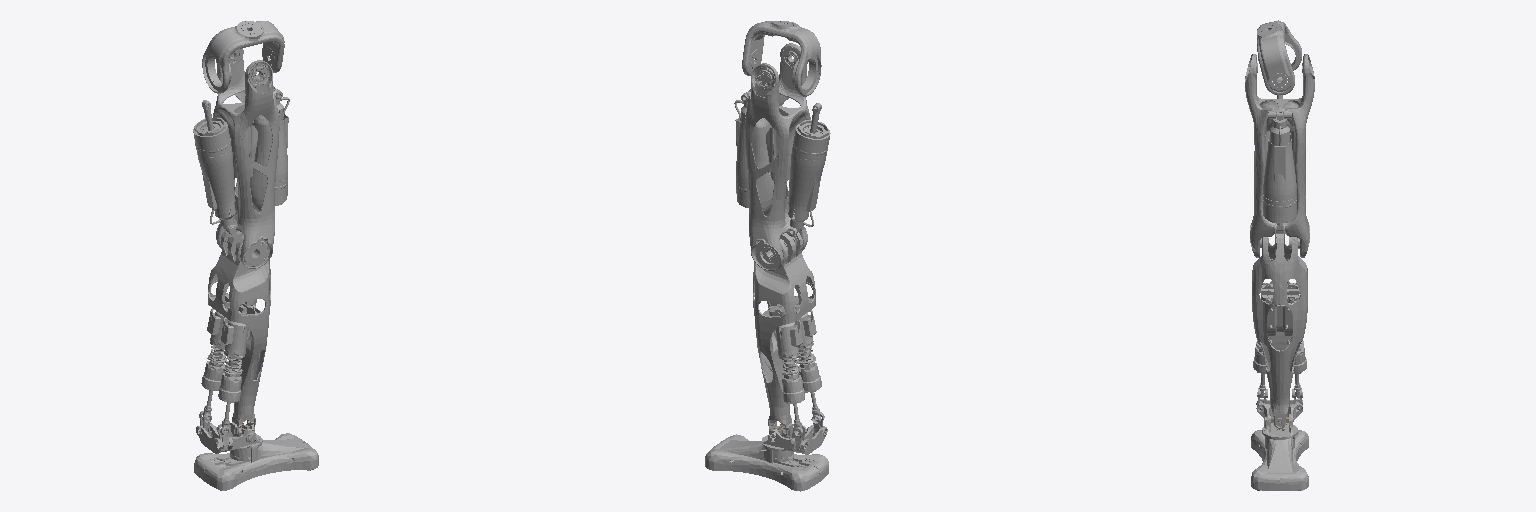
URDF robot description (RH5):
<robot name="RH5">
  <joint name="FLC_FrontLeft" type="fixed">
    <origin xyz="0.13 -0.04 0.0274" rpy="3.1416 0.0 0.0"/>
    <axis xyz="0.0 0.0 0.0"/>
    <parent link="LLAnkle_FT"/>
    <child link="FLC_FrontLeft_Link"/>
  </joint>
  <link name="FLC_FrontLeft_Link">
    <collision name="FLC_FrontLeft_Collision">
      <origin xyz="0.0 0.0 0.0" rpy="0.0 0.0 0.0"/>
      <geometry>
        <sphere radius="0.017"/>
      </geometry>
    </collision>
  </link>
  <joint name="FLC_FrontRight" type="fixed">
    <origin xyz="0.13 0.04 0.0274" rpy="3.1416 0.0 0.0"/>
    <axis xyz="0.0 0.0 0.0"/>
    <parent link="LLAnkle_FT"/>
    <child link="FLC_FrontRight_Link"/>
  </joint>
  <link name="FLC_FrontRight_Link">
    <collision name="FLC_FrontRight_Collision">
      <origin xyz="0.0 0.0 0.0" rpy="0.0 0.0 0.0"/>
      <geometry>
        <sphere radius="0.017"/>
      </geometry>
    </collision>
  </link>
  <joint name="FLC_RearLeft" type="fixed">
    <origin xyz="-0.07 -0.04 0.0274" rpy="3.1416 0.0 0.0"/>
    <axis xyz="0.0 0.0 0.0"/>
    <parent link="LLAnkle_FT"/>
    <child link="FLC_RearLeft_Link"/>
  </joint>
  <link name="FLC_RearLeft_Link">
    <collision name="FLC_RearLeft_Collision">
      <origin xyz="0.0 0.0 0.0" rpy="0.0 0.0 0.0"/>
      <geometry>
        <sphere radius="0.017"/>
      </geometry>
    </collision>
  </link>
  <joint name="FLC_RearRight" type="fixed">
    <origin xyz="-0.07 0.04 0.0274" rpy="3.1416 0.0 0.0"/>
    <axis xyz="0.0 0.0 0.0"/>
    <parent link="LLAnkle_FT"/>
    <child link="FLC_RearRight_Link"/>
  </joint>
  <link name="FLC_RearRight_Link">
    <collision name="FLC_RearRight_Collision">
      <origin xyz="0.0 0.0 0.0" rpy="0.0 0.0 0.0"/>
      <geometry>
        <sphere radius="0.017"/>
      </geometry>
    </collision>
  </link>
  <link name="FL_SupportCenter"/>
  <joint name="FL_SupportCenter" type="fixed">
    <origin xyz="0.03 0.0 0.0444" rpy="3.1416 0.0 0.0"/>
    <axis xyz="0.0 0.0 0.0"/>
    <parent link="LLAnkle_FT"/>
    <child link="FL_SupportCenter"/>
  </joint>

  <joint name="LLAnkleBase" type="fixed">
    <origin xyz="0.42 0.0 0.0015" rpy="1.5708 0.0 -1.5708"/>
    <parent link="LLKnee_Link"/>
    <child link="LLAnkleBase_Link"/>
  </joint>
  <link name="LLAnkleBase_Link">
    <inertial>
      <origin xyz="0.0 0.0 0.0" rpy="0.0 0.0 0.0"/>
      <mass value="0.0"/>
      <inertia ixx="0.0" ixy="0.0" ixz="0.0" iyy="0.0" iyz="0.0" izz="0.0"/>
    </inertial>
  </link>
  <joint name="LLAnklePitch" type="revolute">
    <origin xyz="0.0 0.0 0.0" rpy="0.0 0.0 0.0"/>
    <axis xyz="0.0 1.0 0.0"/>
    <parent link="LLAnkleRoll_Link"/>
    <child link="LLAnklePitch_Link"/>
    <limit effort="200.0" lower="-0.8988445648" upper="0.7853981634" velocity="6.0"/>
  </joint>
  <link name="LLAnklePitch_Link">
    <inertial>
      <origin xyz="2.8493e-18 -1.3878e-16 0.0" rpy="0.0 0.0 0.0"/>
      <mass value="2.8252e-05"/>
      <inertia ixx="4.5912e-11" ixy="1.8118e-28" ixz="-1.4548e-27" iyy="6.6802e-11" iyz="5.3633e-27" izz="3.9725e-11"/>
    </inertial>
    <visual name="LLAnklePitch_Link_visual">
      <origin xyz="0.0 0.0 0.0" rpy="0.0 0.0 0.0"/>
      <geometry>
        <mesh filename="../meshes/AnklePitch_Link.STL"/>
      </geometry>
      <material name="">
        <color rgba="0.79216 0.81961 0.93333 1.0"/>
      </material>
    </visual>
  </link>
  <joint name="LLAnkleRoll" type="revolute">
    <origin xyz="0.0 0.0 0.0" rpy="0.0 0.0 0.0"/>
    <axis xyz="1.0 0.0 0.0"/>
    <parent link="LLAnkleBase_Link"/>
    <child link="LLAnkleRoll_Link"/>
    <limit effort="200.0" lower="-0.9948376736" upper="0.9948376736" velocity="6.0"/>
  </joint>
  <link name="LLAnkleRoll_Link">
    <inertial>
      <origin xyz="-4.1608e-08 7.2923e-08 -5.2997e-09" rpy="0.0 0.0 0.0"/>
      <mass value="0.02493"/>
      <inertia ixx="2.9269e-06" ixy="-7.8377e-12" ixz="-1.0382e-12" iyy="1.1591e-06" iyz="1.5876e-12" izz="3.5758e-06"/>
    </inertial>
    <visual name="LLAnkleRoll_Link_visual">
      <origin xyz="0.0 0.0 0.0" rpy="0.0 0.0 0.0"/>
      <geometry>
        <mesh filename="../meshes/AnkleRoll_Link.STL"/>
      </geometry>
      <material name="">
        <color rgba="0.64706 0.61961 0.58824 1.0"/>
      </material>
    </visual>
    <collision name="LLAnkleRoll_Link_collision">
      <origin xyz="0.0 0.0 0.0" rpy="0.0 0.0 0.0"/>
      <geometry>
        <mesh filename="../meshes/AnkleRoll_Link.STL"/>
      </geometry>
    </collision>
  </link>
  <joint name="LLAnkle_Act1" type="prismatic">
    <origin xyz="0.0 0.0 0.26597" rpy="0.0 0.0 0.0"/>
    <axis xyz="0.0 0.0 1.0"/>
    <parent link="LLAnkle_B12_Link"/>
    <child link="LLAnkle_Act1_Link"/>
    <limit effort="571.0" lower="-0.0449" upper="0.0647" velocity="0.266"/>
  </joint>
  <link name="LLAnkle_Act1_Link">
    <inertial>
      <origin xyz="0.0 0.0 0.0" rpy="0.0 0.0 0.0"/>
      <mass value="0.07896134655058572"/>
      <inertia ixx="0.0002465399999951976" ixy="2.2218334565684636e-09" ixz="-1.2305787261017842e-09" iyy="0.00024678" iyz="-6.276200589605272e-08" izz="1.0730000048024368e-06"/>
    </inertial>
    <visual name="LLAnkle_Act1_Link_visual">
      <origin xyz="0.0 0.0 0.0" rpy="0.0 3.14159 1.57079632679"/>
      <geometry>
        <mesh filename="../meshes/Ankle_Act1_Link.STL"/>
      </geometry>
      <material name="">
        <color rgba="0.69804 0.69804 0.69804 1.0"/>
      </material>
    </visual>
    <collision name="LLAnkle_Act1_Link_collision">
      <origin xyz="0.0 0.0 0.0" rpy="0.0 3.14159 1.57079632679"/>
      <geometry>
        <mesh filename="../meshes/Ankle_Act1_Link.STL"/>
      </geometry>
    </collision>
  </link>
  <joint name="LLAnkle_Act2" type="prismatic">
    <origin xyz="0.0 0.0 0.26597" rpy="0.0 0.0 0.0"/>
    <axis xyz="0.0 0.0 1.0"/>
    <parent link="LLAnkle_B22_Link"/>
    <child link="LLAnkle_Act2_Link"/>
    <limit effort="571.0" lower="-0.0449" upper="0.0647" velocity="0.266"/>
  </joint>
  <link name="LLAnkle_Act2_Link">
    <inertial>
      <origin xyz="0.0 0.0 0.0" rpy="0.0 -0.0 0.0"/>
      <mass value="0.07896134655058568"/>
      <inertia ixx="0.00024653999999529885" ixy="-2.1503334660041774e-09" ixz="-1.2114887257947331e-09" iyy="0.00024678" iyz="6.275800570632389e-08" izz="1.0730000047011228e-06"/>
    </inertial>
    <visual name="LLAnkle_Act2_Link_visual">
      <origin xyz="0.0 0.0 0.0" rpy="0.0 3.14159 0.0"/>
      <geometry>
        <mesh filename="../meshes/Ankle_Act2_Link.STL"/>
      </geometry>
      <material name="">
        <color rgba="0.69804 0.69804 0.69804 1.0"/>
      </material>
    </visual>
    <collision name="LLAnkle_Act2_Link_collision">
      <origin xyz="0.0 0.0 0.0" rpy="0.0 3.14159 0.0"/>
      <geometry>
        <mesh filename="../meshes/Ankle_Act2_Link.STL"/>
      </geometry>
    </collision>
  </link>
  <joint name="LLAnkle_B11" type="revolute">
    <origin xyz="-0.0223 0.025 0.29127" rpy="3.091 -0.174503 3.14159"/>
    <axis xyz="1.0 0.0 0.0"/>
    <parent link="LLAnkleBase_Link"/>
    <child link="LLAnkle_B11_Link"/>
    <limit effort="0.0" lower="0" upper="0" velocity="0.0"/>
  </joint>
  <link name="LLAnkle_B11_Link">
    <inertial>
      <origin xyz="-0.0026075 -1.6785e-12 0.0015126" rpy="0.0 0.0 0.0"/>
      <mass value="0.00654"/>
      <inertia ixx="1.5907e-06" ixy="3.9038e-14" ixz="8.7457e-09" iyy="1.8739e-06" iyz="8.1942e-15" izz="3.3241e-06"/>
    </inertial>
    <visual name="LLAnkle_B11_Link_visual">
      <origin xyz="0.0 0.0 0.0" rpy="0.0 0.0 0.0"/>
      <geometry>
        <mesh filename="../meshes/Ankle_B11_Link.STL"/>
      </geometry>
      <material name="">
        <color rgba="0.69804 0.69804 0.69804 1.0"/>
      </material>
    </visual>
    <collision name="LLAnkle_B11_Link_collision">
      <origin xyz="0.0 0.0 0.0" rpy="0.0 0.0 0.0"/>
      <geometry>
        <mesh filename="../meshes/Ankle_B11_Link.STL"/>
      </geometry>
    </collision>
  </link>
  <joint name="LLAnkle_B12" type="revolute">
    <origin xyz="0.0 0.0 0.0" rpy="0.0 -0.0060102 0.0"/>
    <axis xyz="0.0 1.0 0.0"/>
    <parent link="LLAnkle_B11_Link"/>
    <child link="LLAnkle_B12_Link"/>
    <limit effort="0.0" lower="0" upper="0" velocity="0.0"/>
  </joint>
  <link name="LLAnkle_B12_Link">
    <inertial>
      <origin xyz="0.0 0.0 0.0" rpy="0.0 -0.0 0.0"/>
      <mass value="0.626756605161674"/>
      <inertia ixx="0.0024658002179549095" ixy="-7.781387113609205e-08" ixz="4.106487105614771e-05" iyy="0.0024841" iyz="4.2541020648759203e-07" izz="0.0001561197820450909"/>
    </inertial>
    <visual name="LLAnkle_B12_Link_visual">
      <origin xyz="0.0 0.0 0.0" rpy="0.0 3.14159 0.0"/>
      <geometry>
        <mesh filename="../meshes/Ankle_B12_Link.STL"/>
      </geometry>
      <material name="">
        <color rgba="0.69804 0.69804 0.69804 1.0"/>
      </material>
    </visual>
    <collision name="LLAnkle_B12_Link_collision">
      <origin xyz="0.0 0.0 0.0" rpy="0.0 3.14159 0.0"/>
      <geometry>
        <mesh filename="../meshes/Ankle_B12_Link.STL"/>
      </geometry>
    </collision>
  </link>
  <joint name="LLAnkle_B21" type="revolute">
    <origin xyz="-0.0223 -0.025 0.29127" rpy="-3.09098 -0.174503 3.14159"/>
    <axis xyz="1.0 0.0 0.0"/>
    <parent link="LLAnkleBase_Link"/>
    <child link="LLAnkle_B21_Link"/>
    <limit effort="0.0" lower="0" upper="0" velocity="0.0"/>
  </joint>
  <link name="LLAnkle_B21_Link">
    <inertial>
      <origin xyz="-0.0026075 1.5362e-12 0.0015126" rpy="0.0 0.0 0.0"/>
      <mass value="0.00654"/>
      <inertia ixx="1.5907e-06" ixy="3.9046e-14" ixz="8.7457e-09" iyy="1.8739e-06" iyz="-5.5038e-15" izz="3.3241e-06"/>
    </inertial>
    <visual name="LLAnkle_B21_Link_visual">
      <origin xyz="0.0 0.0 0.0" rpy="0.0 0.0 0.0"/>
      <geometry>
        <mesh filename="../meshes/Ankle_B21_Link.STL"/>
      </geometry>
      <material name="">
        <color rgba="0.69804 0.69804 0.69804 1.0"/>
      </material>
    </visual>
    <collision name="LLAnkle_B21_Link_collision">
      <origin xyz="0.0 0.0 0.0" rpy="0.0 0.0 0.0"/>
      <geometry>
        <mesh filename="../meshes/Ankle_B21_Link.STL"/>
      </geometry>
    </collision>
  </link>
  <joint name="LLAnkle_B22" type="revolute">
    <origin xyz="0.0 0.0 0.0" rpy="0.0 -0.0060102 0.0"/>
    <axis xyz="0.0 1.0 0.0"/>
    <parent link="LLAnkle_B21_Link"/>
    <child link="LLAnkle_B22_Link"/>
    <limit effort="0.0" lower="0" upper="0" velocity="0.0"/>
  </joint>
  <link name="LLAnkle_B22_Link">
    <inertial>
      <origin xyz="0.0 0.0 0.0" rpy="0.0 0.0 0.0"/>
      <mass value="0.6267566051616451"/>
      <inertia ixx="0.0024658002179549095" ixy="-7.617188419175961e-08" ixz="4.106487105614771e-05" iyy="0.0024841" iyz="4.204902021304149e-07" izz="0.0001561197820450909"/>
    </inertial>
    <visual name="LLAnkle_B22_Link_visual">
      <origin xyz="0.0 0.0 0.0" rpy="0.0 3.14159 0.0"/>
      <geometry>
        <mesh filename="../meshes/Ankle_B22_Link.STL"/>
      </geometry>
      <material name="">
        <color rgba="0.69804 0.69804 0.69804 1.0"/>
      </material>
    </visual>
    <collision name="LLAnkle_B22_Link_collision">
      <origin xyz="0.0 0.0 0.0" rpy="0.0 3.14159 0.0"/>
      <geometry>
        <mesh filename="../meshes/Ankle_B22_Link.STL"/>
      </geometry>
    </collision>
  </link>
  <joint name="LLAnkle_E11" type="revolute">
    <origin xyz="-0.07 0.04 0.0" rpy="0.05066 0.0 0.0"/>
    <axis xyz="1.0 0.0 0.0"/>
    <parent link="LLAnklePitch_Link"/>
    <child link="LLAnkle_E11_Link"/>
    <limit effort="0.0" lower="0" upper="0" velocity="0.0"/>
  </joint>
  <link name="LLAnkle_E11_Link">
    <inertial>
      <origin xyz="-3.2627e-08 -0.00061479 0.011938" rpy="0.0 0.0 0.0"/>
      <mass value="0.025"/>
      <inertia ixx="5.6966e-06" ixy="2.0874e-13" ixz="-6.1394e-13" iyy="5.4356e-06" iyz="2.0391e-07" izz="1.4865e-06"/>
    </inertial>
    <visual name="LLAnkle_E11_Link_visual">
      <origin xyz="0.0 0.0 0.0" rpy="0.0 0.0 0.0"/>
      <geometry>
        <mesh filename="../meshes/Ankle_E11_Link.STL"/>
      </geometry>
      <material name="">
        <color rgba="0.69804 0.69804 0.69804 1.0"/>
      </material>
    </visual>
    <collision name="LLAnkle_E11_Link_collision">
      <origin xyz="0.0 0.0 0.0" rpy="0.0 0.0 0.0"/>
      <geometry>
        <mesh filename="../meshes/Ankle_E11_Link.STL"/>
      </geometry>
    </collision>
  </link>
  <joint name="LLAnkle_E21" type="revolute">
    <origin xyz="-0.07 -0.04 0.0" rpy="-0.05066 0.0 0.0"/>
    <axis xyz="1.0 0.0 0.0"/>
    <parent link="LLAnklePitch_Link"/>
    <child link="LLAnkle_E21_Link"/>
    <limit effort="0.0" lower="0" upper="0" velocity="0.0"/>
  </joint>
  <link name="LLAnkle_E21_Link">
    <inertial>
      <origin xyz="-3.2627e-08 0.00061479 0.011938" rpy="0.0 0.0 0.0"/>
      <mass value="0.025"/>
      <inertia ixx="5.6966e-06" ixy="-2.0874e-13" ixz="-6.1394e-13" iyy="5.4356e-06" iyz="-2.0391e-07" izz="1.4865e-06"/>
    </inertial>
    <visual name="LLAnkle_E21_Link_visual">
      <origin xyz="0.0 0.0 0.0" rpy="0.0 0.0 0.0"/>
      <geometry>
        <mesh filename="../meshes/Ankle_E21_Link.STL"/>
      </geometry>
      <material name="">
        <color rgba="0.69804 0.69804 0.69804 1.0"/>
      </material>
    </visual>
    <collision name="LLAnkle_E21_Link_collision">
      <origin xyz="0.0 0.0 0.0" rpy="0.0 0.0 0.0"/>
      <geometry>
        <mesh filename="../meshes/Ankle_E21_Link.STL"/>
      </geometry>
    </collision>
  </link>
  <link name="LLAnkle_FT">
    <inertial>
      <origin xyz="0.016102 4.5932e-05 0.0078533" rpy="0.0 0.0 0.0"/>
      <mass value="1.2348"/>
      <inertia ixx="0.0018722" ixy="1.7891e-07" ixz="-0.00077672" iyy="0.0072567" iyz="3.8393e-06" izz="0.007267"/>
    </inertial>
    <visual name="LLAnkle_FT_visual">
      <origin xyz="0.0 0.0 0.0" rpy="0.0 0.0 0.0"/>
      <geometry>
        <mesh filename="../meshes/FL_FT_Link.STL"/>
      </geometry>
      <material name="">
        <color rgba="0.69804 0.69804 0.69804 1.0"/>
      </material>
    </visual>
    <collision name="LLAnkle_FT_collision">
      <origin xyz="0.0 0.0 0.0" rpy="0.0 0.0 0.0"/>
      <geometry>
        <mesh filename="../meshes/FL_FT_Link.STL"/>
      </geometry>
    </collision>
  </link>
  <joint name="LLAnkle_FT" type="fixed">
    <origin xyz="0.0 0.0 -0.058972" rpy="-3.1416 0.0 -1.2151e-16"/>
    <axis xyz="0.0 0.0 0.0"/>
    <parent link="LLAnklePitch_Link"/>
    <child link="LLAnkle_FT"/>
  </joint>
  <joint name="LLHip1" type="revolute">
    <origin xyz="0.0 0.0 0.0" rpy="8.0247e-16 0.2618 -1.5708"/>
    <axis xyz="0.0 0.0 1.0"/>
    <parent link="RH5_Root_Link"/>
    <child link="LLHip1_Link"/>
    <limit effort="135.0" lower="-0.7854" upper="0.7854" velocity="1.8326"/>
  </joint>
  <link name="LLHip1_Link">
    <inertial>
      <origin xyz="-4.7812e-08 -0.0016168 0.04962" rpy="0.0 0.0 0.0"/>
      <mass value="0.5"/>
      <inertia ixx="0.0020247" ixy="7.2405e-09" ixz="3.8164e-09" iyy="0.00095765" iyz="-0.00012913" izz="0.0015078"/>
    </inertial>
    <visual name="LLHip1_Link_visual">
      <origin xyz="0.0 0.0 0.0" rpy="0.0 0.0 0.0"/>
      <geometry>
        <mesh filename="../meshes/LLHip1_Link.STL"/>
      </geometry>
      <material name="">
        <color rgba="0.69804 0.69804 0.69804 1.0"/>
      </material>
    </visual>
    <collision name="LLHip1_Link_collision">
      <origin xyz="0.0 0.0 0.0" rpy="0.0 0.0 0.0"/>
      <geometry>
        <mesh filename="../meshes/LLHip1_Link.STL"/>
      </geometry>
    </collision>
  </link>
  <joint name="LLHip2" type="revolute">
    <origin xyz="0.0 0.0 0.0" rpy="9.8608e-32 2.7756e-17 -4.9304e-32"/>
    <axis xyz="0.0 1.0 0.0"/>
    <parent link="LLHip1_Link"/>
    <child link="LLHip2_Link"/>
    <limit effort="135.0" lower="-0.4363" upper="0.8727" velocity="1.8326"/>
  </joint>
  <link name="LLHip2_Link">
    <inertial>
      <origin xyz="0.0013954 0.0024309 -0.0053241" rpy="0.0 0.0 0.0"/>
      <mass value="0.969"/>
      <inertia ixx="0.0017014" ixy="7.9487e-05" ixz="4.6091e-05" iyy="0.0011578" iyz="-0.0003011" izz="0.0015428"/>
    </inertial>
    <visual name="LLHip2_Link_visual">
      <origin xyz="0.0 0.0 0.0" rpy="0.0 0.0 0.0"/>
      <geometry>
        <mesh filename="../meshes/LLHip2_Link.STL"/>
      </geometry>
      <material name="">
        <color rgba="0.69804 0.69804 0.69804 1.0"/>
      </material>
    </visual>
  </link>
  <joint name="LLHip3" type="revolute">
    <origin xyz="0.0 0.0 0.0" rpy="9.8608e-32 2.7756e-17 -4.9304e-32"/>
    <axis xyz="-0.96593 0.0 -0.25882"/>
    <parent link="LLHip2_Link"/>
    <child link="LLHip3_Link"/>
    <limit effort="378.0" lower="-1.16" upper="0.28" velocity="2.321"/>
  </joint>
  <joint name="LLHip3_Act1" type="prismatic">
    <origin xyz="0.2974 0.0 0.0" rpy="3.1416 -5.2385e-31 0.0"/>
    <axis xyz="1.0 0.0 0.0"/>
    <parent link="LLHip3_B11_Link"/>
    <child link="LLHip3_Act1_Link"/>
    <limit effort="0.0" lower="0" upper="0" velocity="0.0"/>
  </joint>
  <link name="LLHip3_Act1_Link">
    <inertial>
      <origin xyz="-0.16939 -0.00046849 4.4559e-05" rpy="0.0 0.0 0.0"/>
      <mass value="1.224"/>
      <inertia ixx="0.00077764" ixy="5.3759e-05" ixz="4.1291e-07" iyy="0.0059452" iyz="-2.966e-08" izz="0.0059569"/>
    </inertial>
    <visual name="LLHip3_Act1_Link_visual">
      <origin xyz="0.0 0.0 0.0" rpy="0.0 0.0 0.0"/>
      <geometry>
        <mesh filename="../meshes/LLHip3_Act1_Link.STL"/>
      </geometry>
      <material name="">
        <color rgba="0.69804 0.69804 0.69804 1.0"/>
      </material>
    </visual>
    <collision name="LLHip3_Act1_Link_collision">
      <origin xyz="0.0 0.0 0.0" rpy="0.0 0.0 0.0"/>
      <geometry>
        <mesh filename="../meshes/LLHip3_Act1_Link.STL"/>
      </geometry>
    </collision>
  </link>
  <joint name="LLHip3_B11" type="revolute">
    <origin xyz="0.018117 -0.09 -0.067615" rpy="-2.5686 1.2577 0.59588"/>
    <axis xyz="0.0 0.0 1.0"/>
    <parent link="LLHip2_Link"/>
    <child link="LLHip3_B11_Link"/>
    <limit effort="0.0" lower="0" upper="0" velocity="0.0"/>
  </joint>
  <link name="LLHip3_B11_Link">
    <inertial>
      <origin xyz="0.10645 -2.4289e-13 1.9568e-15" rpy="0.0 0.0 0.0"/>
      <mass value="0.16503"/>
      <inertia ixx="3.4113e-06" ixy="3.8263e-12" ixz="-7.0537e-16" iyy="0.00081967" iyz="-1.7661e-15" izz="0.00081963"/>
    </inertial>
    <visual name="LLHip3_B11_Link_visual">
      <origin xyz="0.0 0.0 0.0" rpy="0.0 0.0 0.0"/>
      <geometry>
        <mesh filename="../meshes/Hip3_B11_Link.STL"/>
      </geometry>
      <material name="">
        <color rgba="0.69804 0.69804 0.69804 1.0"/>
      </material>
    </visual>
    <collision name="LLHip3_B11_Link_collision">
      <origin xyz="0.0 0.0 0.0" rpy="0.0 0.0 0.0"/>
      <geometry>
        <mesh filename="../meshes/Hip3_B11_Link.STL"/>
      </geometry>
    </collision>
  </link>
  <link name="LLHip3_Link">
    <inertial>
      <origin xyz="0.051263 0.0072511 -0.19232" rpy="0.0 0.0 0.0"/>
      <mass value="1.0487"/>
      <inertia ixx="0.020383" ixy="3.4682e-05" ixz="0.0047264" iyy="0.022629" iyz="-0.00014075" izz="0.0042174"/>
    </inertial>
    <visual name="LLHip3_Link_visual">
      <origin xyz="0.0 0.0 0.0" rpy="0.0 0.0 0.0"/>
      <geometry>
        <mesh filename="../meshes/Hip3_Link.STL"/>
      </geometry>
      <material name="">
        <color rgba="0.69804 0.69804 0.69804 1.0"/>
      </material>
    </visual>
    <collision name="LLHip3_Link_collision">
      <origin xyz="0.0 0.0 0.0" rpy="0.0 0.0 0.0"/>
      <geometry>
        <mesh filename="../meshes/Hip3_Link.STL"/>
      </geometry>
    </collision>
  </link>
  <joint name="LLKnee" type="revolute">
    <origin xyz="0.10788 -0.0005 -0.39684" rpy="3.1416 1.309 -2.9949e-15"/>
    <axis xyz="0.0 0.0 1.0"/>
    <parent link="LLHip3_Link"/>
    <child link="LLKnee_Link"/>
    <limit effort="325.0" lower="-0.026" upper="1.43" velocity="2.321"/>
  </joint>
  <joint name="LLKnee_Act1" type="prismatic">
    <origin xyz="0.27341 0.0 0.0" rpy="0.0 7.7037e-32 -6.9389e-18"/>
    <axis xyz="1.0 0.0 0.0"/>
    <parent link="LLKnee_B11_Link"/>
    <child link="LLKnee_Act1_Link"/>
    <limit effort="1825.0" lower="0.0" upper="0.1175" velocity="0.14"/>
  </joint>
  <link name="LLKnee_Act1_Link">
    <inertial>
      <origin xyz="-0.10645 -2.465e-13 1.5266e-16" rpy="0.0 0.0 0.0"/>
      <mass value="0.16503"/>
      <inertia ixx="3.4113e-06" ixy="-3.8263e-12" ixz="-7.1291e-16" iyy="0.00081967" iyz="1.7661e-15" izz="0.00081963"/>
    </inertial>
    <visual name="LLKnee_Act1_Link_visual">
      <origin xyz="0.0 0.0 0.0" rpy="0.0 0.0 0.0"/>
      <geometry>
        <mesh filename="../meshes/Knee_Act1_Link.STL"/>
      </geometry>
      <material name="">
        <color rgba="0.69804 0.69804 0.69804 1.0"/>
      </material>
    </visual>
    <collision name="LLKnee_Act1_Link_collision">
      <origin xyz="0.0 0.0 0.0" rpy="0.0 0.0 0.0"/>
      <geometry>
        <mesh filename="../meshes/Knee_Act1_Link.STL"/>
      </geometry>
    </collision>
  </link>
  <joint name="LLKnee_B11" type="revolute">
    <origin xyz="0.020175 0.070737 -0.075294" rpy="-0.15081 1.3059 -0.15617"/>
    <axis xyz="0.0 0.0 -1.0"/>
    <parent link="LLHip3_Link"/>
    <child link="LLKnee_B11_Link"/>
    <limit effort="0.0" lower="0" upper="0" velocity="0.0"/>
  </joint>
  <link name="LLKnee_B11_Link">
    <inertial>
      <origin xyz="0.16939 0.00046866 4.4515e-05" rpy="0.0 0.0 0.0"/>
      <mass value="1.224"/>
      <inertia ixx="0.00077764" ixy="5.3789e-05" ixz="-4.184e-07" iyy="0.0059454" iyz="3.0443e-08" izz="0.0059571"/>
    </inertial>
    <visual name="LLKnee_B11_Link_visual">
      <origin xyz="0.0 0.0 0.0" rpy="0.0 0.0 0.0"/>
      <geometry>
        <mesh filename="../meshes/Knee_B11_Link.STL"/>
      </geometry>
      <material name="">
        <color rgba="0.69804 0.69804 0.69804 1.0"/>
      </material>
    </visual>
    <collision name="LLKnee_B11_Link_collision">
      <origin xyz="0.0 0.0 0.0" rpy="0.0 0.0 0.0"/>
      <geometry>
        <mesh filename="../meshes/Knee_B11_Link.STL"/>
      </geometry>
    </collision>
  </link>
  <link name="LLKnee_Link">
    <inertial>
      <origin xyz="0.11911 -0.001888 0.00058411" rpy="0.0 0.0 0.0"/>
      <mass value="0.94401"/>
      <inertia ixx="0.0017333" ixy="-5.494e-05" ixz="-0.00010491" iyy="0.01483" iyz="2.0836e-06" izz="0.014618"/>
    </inertial>
    <visual name="LLKnee_Link_visual">
      <origin xyz="0.0 0.0 0.0" rpy="0.0 0.0 0.0"/>
      <geometry>
        <mesh filename="../meshes/Knee_Link.STL"/>
      </geometry>
      <material name="">
        <color rgba="0.69804 0.69804 0.69804 1.0"/>
      </material>
    </visual>
    <collision name="LLKnee_Link_collision">
      <origin xyz="0.0 0.0 0.0" rpy="0.0 0.0 0.0"/>
      <geometry>
        <mesh filename="../meshes/Knee_Link.STL"/>
      </geometry>
    </collision>
  </link>
  <link name="RH5_Root_Link">
        <inertial>
          <origin xyz="-2e-05 0.05773 0.13284" rpy="0 0 0"/>
          <mass value="3.341"/>
          <inertia ixx="19.25987" ixy="-0.00367" ixz="-0.00781" iyy="30.47776" iyz="1.97034" izz="36.59542"/>
        </inertial>
        <collision name="collision_0_RH5_Root_Link">
          <origin xyz="0 0 0" rpy="0 0 0"/>
          <geometry>
            <mesh filename="../meshes/stl/RH5_Root_Link.stl" scale="1.0 1.0 1.0"/>
          </geometry>
        </collision>
    </link>
</robot>

--- Render facts (derived) ---
Views: 3 orthographic renders of the robot side by side, from view 1: azimuth 30°, elevation 25°; view 2: azimuth 150°, elevation 25°; view 3: azimuth 270°, elevation 25°.
Robot: RH5 — 26 links, 25 joints (14 revolute, 4 prismatic, 7 fixed); root link RH5_Root_Link; default pose: every joint at zero.
Links seen in each view (by area): view 1: LLHip3_Link, LLKnee_Link, LLAnkle_FT, LLHip3_Act1_Link, LLHip1_Link, LLAnkle_B22_Link, LLAnkle_B12_Link, LLKnee_B11_Link; view 2: LLHip3_Link, LLKnee_Link, LLAnkle_FT, LLHip3_Act1_Link, LLHip1_Link, LLAnkle_B12_Link, LLAnkle_B22_Link, LLKnee_B11_Link; view 3: LLKnee_Link, LLHip3_Link, LLAnkle_FT, LLKnee_B11_Link, LLHip1_Link.
Boxes of the visible links, <box> form: LLHip3_Link: <box>213,48,282,268</box>; LLKnee_Link: <box>208,230,270,436</box>; LLAnkle_FT: <box>194,423,318,490</box>; LLHip3_Act1_Link: <box>193,118,235,229</box>; LLHip1_Link: <box>202,21,284,93</box>; LLAnkle_B22_Link: <box>218,305,248,402</box>; LLAnkle_B12_Link: <box>201,294,229,390</box>; LLKnee_B11_Link: <box>253,87,289,205</box>; LLHip3_Link: <box>741,43,810,270</box>; LLKnee_Link: <box>753,232,815,437</box>; LLAnkle_FT: <box>705,424,828,491</box>; LLHip3_Act1_Link: <box>788,120,830,232</box>; LLHip1_Link: <box>742,21,821,96</box>; LLAnkle_B12_Link: <box>775,306,804,403</box>; LLAnkle_B22_Link: <box>794,296,821,392</box>; LLKnee_B11_Link: <box>734,90,770,207</box>; LLKnee_Link: <box>1252,224,1307,428</box>; LLHip3_Link: <box>1245,54,1314,257</box>; LLAnkle_FT: <box>1251,398,1308,490</box>; LLKnee_B11_Link: <box>1263,112,1296,223</box>; LLHip1_Link: <box>1257,20,1301,94</box>.
Bounding box of the posed robot: 0.2706 × 0.15 × 1.04 m (x, y, z).
17 mesh visuals loaded from 19 distinct referenced files (17 binary STL); not drawn: 2 (reference not matched to a file when rendering).